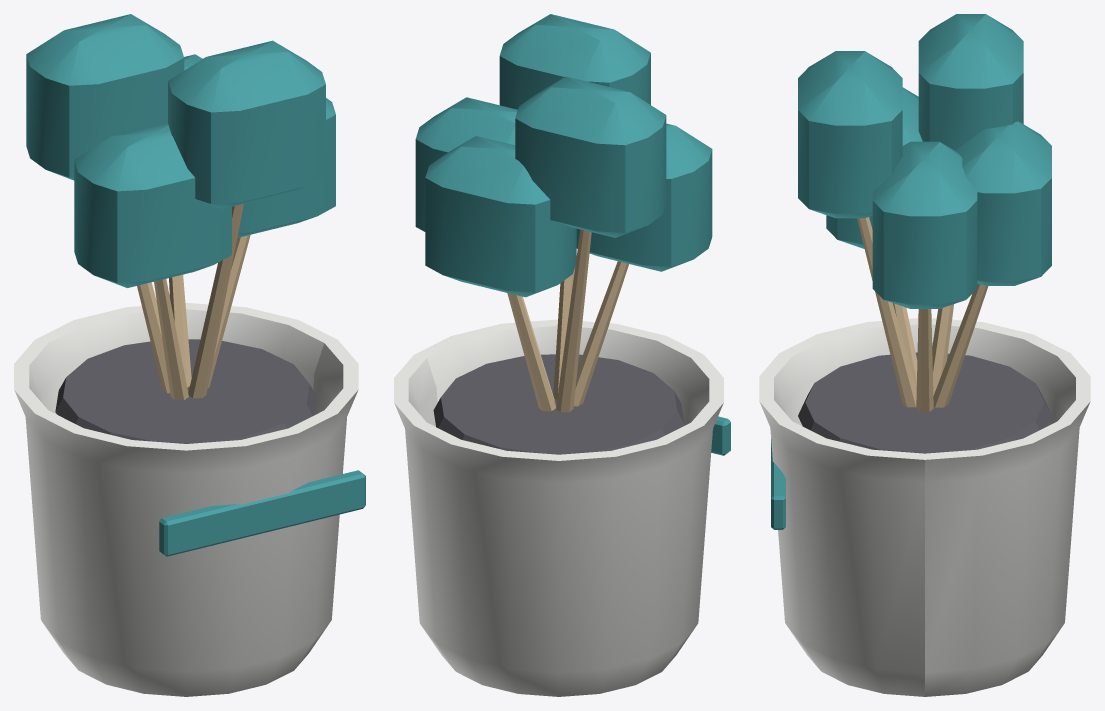
Rendered from dry-cleaners-and-alterations-shop-plant-pot-a523380f__34951.glb.
3 renders of one model, left to right at view 1: azimuth 30°, elevation 25°; view 2: azimuth 150°, elevation 25°; view 3: azimuth 270°, elevation 25°, orthographic. The views are drawn at different scales.
Visible parts, largest first — view 1: plant-pot; view 2: plant-pot; view 3: plant-pot.
Boxes of the visible parts, box(x1,y1,x2,y2) form: plant-pot: box(14, 14, 365, 696); plant-pot: box(394, 14, 730, 696); plant-pot: box(759, 14, 1090, 696).
Size of the model in its own units: 0.45 by 0.87 by 0.4432.
